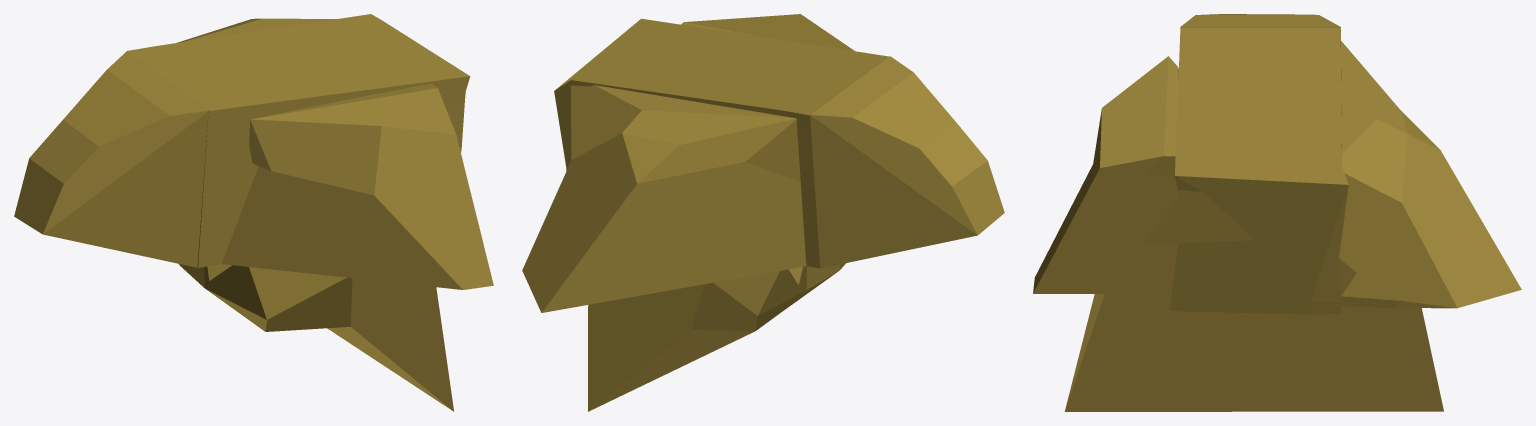
File: animalfaceNEWPLEASE.glb
3 renders of one model, left to right at view 1: azimuth 30°, elevation 25°; view 2: azimuth 150°, elevation 25°; view 3: azimuth 270°, elevation 25°, orthographic. The views are drawn at different scales.
Visible parts, largest first — view 1: Cube.001; view 2: Cube.001; view 3: Cube.001.
Part boxes in pixels (box(x1,y1,x2,y2)): Cube.001: box(14, 14, 493, 411); Cube.001: box(522, 14, 1004, 411); Cube.001: box(1033, 14, 1521, 411).
Size of the model in its own units: 1.55 by 1.14 by 1.67.
